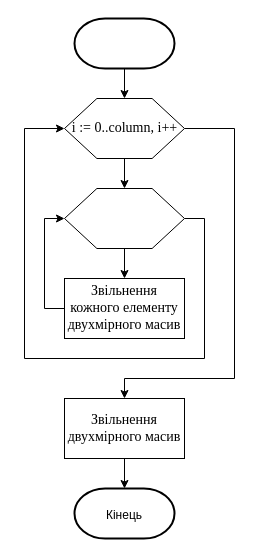
The diagram is 260 pixels wide and 556 high, and some of its shapes have lost their labels. The centre of each missing label's shape, as x and y in pixels:
"free_matrix" goes at point 124,43.
"j := 0..row, j++" goes at point 124,218.
